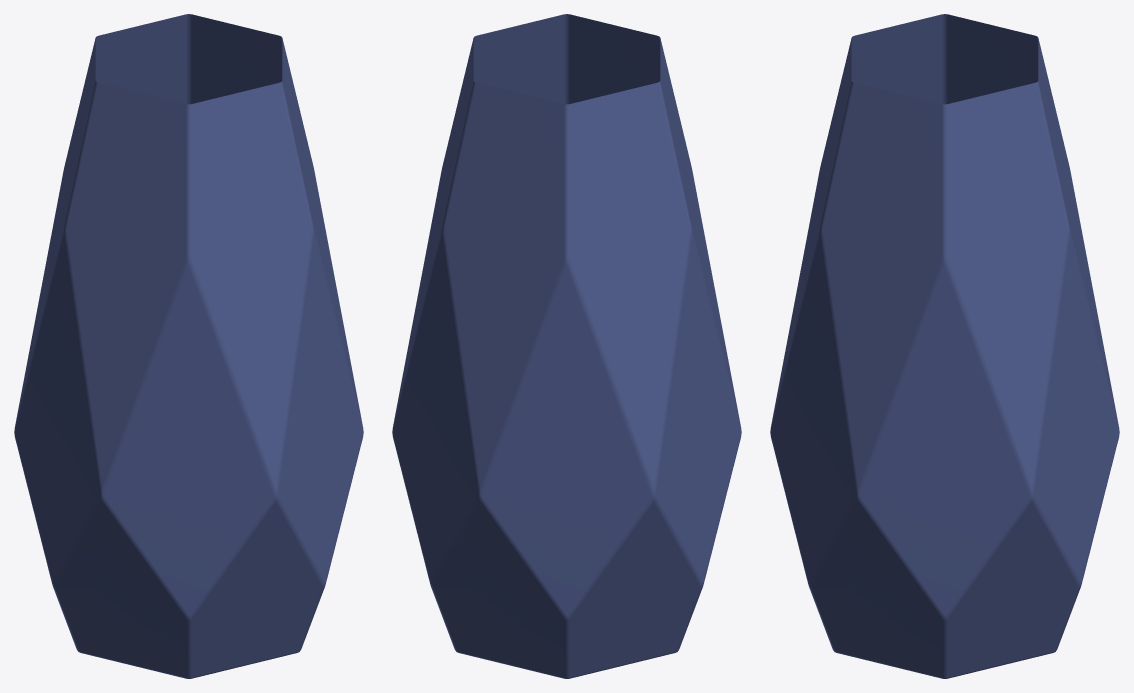
Rendered from vase.fbx.
The picture shows the model from 3 angles, left to right: view 1: azimuth 30°, elevation 25°; view 2: azimuth 150°, elevation 25°; view 3: azimuth 270°, elevation 25°; orthographic projection.
Parts seen in each view (by area): view 1: nada_final:pCylinder1; view 2: nada_final:pCylinder1; view 3: nada_final:pCylinder1.
Boxes of the visible parts, box(x1,y1,x2,y2) form: nada_final:pCylinder1: box(14, 14, 363, 678); nada_final:pCylinder1: box(392, 14, 741, 678); nada_final:pCylinder1: box(770, 14, 1119, 678).
Size of the model in its own units: 16.78 by 33.34 by 18.62.
